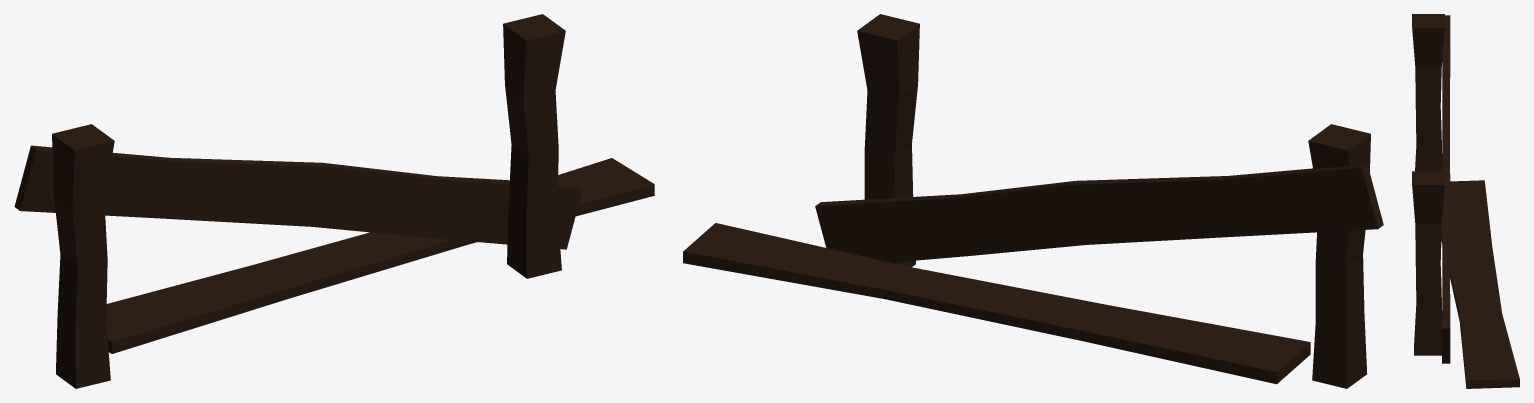
Rendered from fence3.obj.
3 renders of one model, left to right at view 1: azimuth 30°, elevation 25°; view 2: azimuth 150°, elevation 25°; view 3: azimuth 270°, elevation 25°, orthographic. The views are drawn at different scales.
Visible parts, largest first — view 1: Cube.011_Cube.016; view 2: Cube.011_Cube.016; view 3: Cube.011_Cube.016.
Part boxes in pixels (box(x1,y1,x2,y2)): Cube.011_Cube.016: box(14, 14, 654, 388); Cube.011_Cube.016: box(683, 14, 1383, 388); Cube.011_Cube.016: box(1412, 14, 1519, 388).
Bounding box in the file's own units: 5.7 × 2.01 × 1.14.
